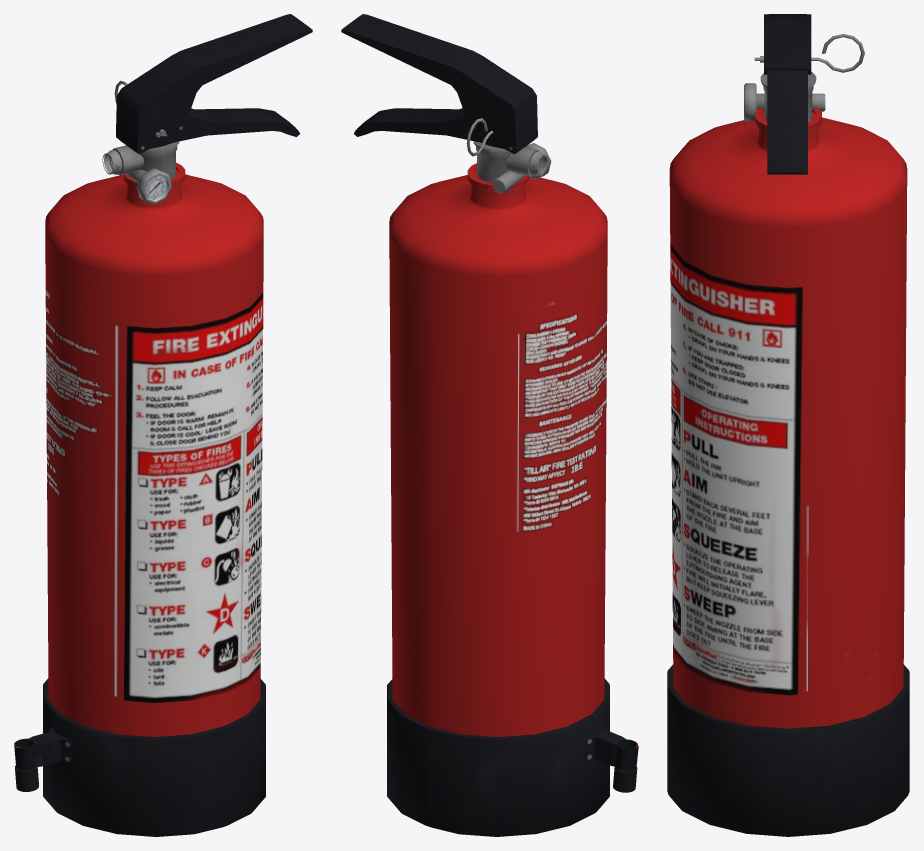
The model's file is fIRE eXTINGUISHER.fbx.
The picture shows the model from 3 angles, left to right: view 1: azimuth 30°, elevation 25°; view 2: azimuth 150°, elevation 25°; view 3: azimuth 270°, elevation 25°; orthographic projection. The views are drawn at different scales.
Visible parts, largest first — view 1: Cylinder002; view 2: Cylinder002; view 3: Cylinder002.
Boxes of the visible parts, box(x1,y1,x2,y2) form: Cylinder002: box(14, 14, 312, 836); Cylinder002: box(341, 14, 638, 836); Cylinder002: box(667, 14, 909, 836).
Bounding box in the file's own units: 81.61 × 200 × 55.09.
